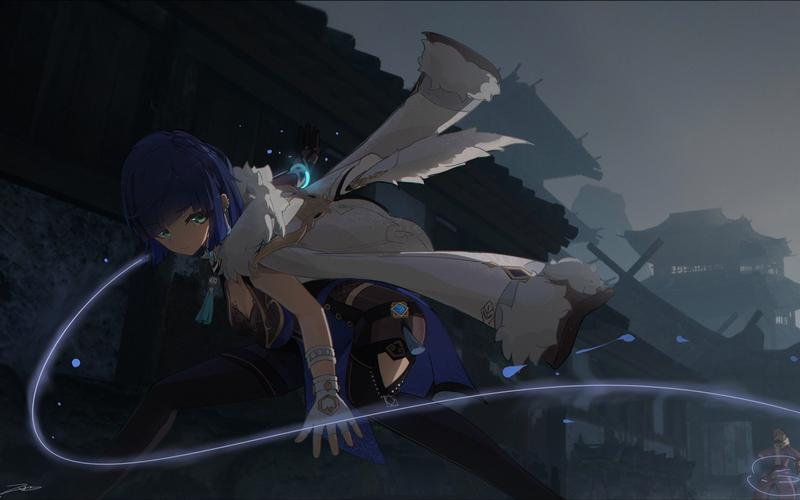夜兰: (112, 133, 564, 500)
